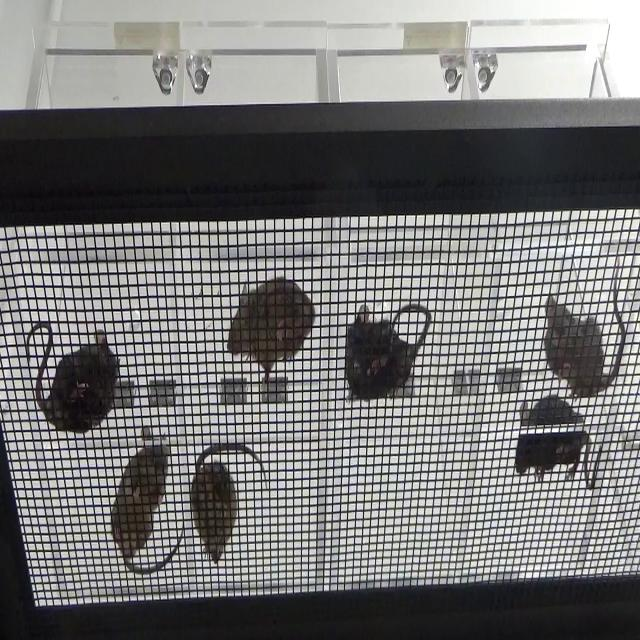scratch: (537, 279, 633, 397)
